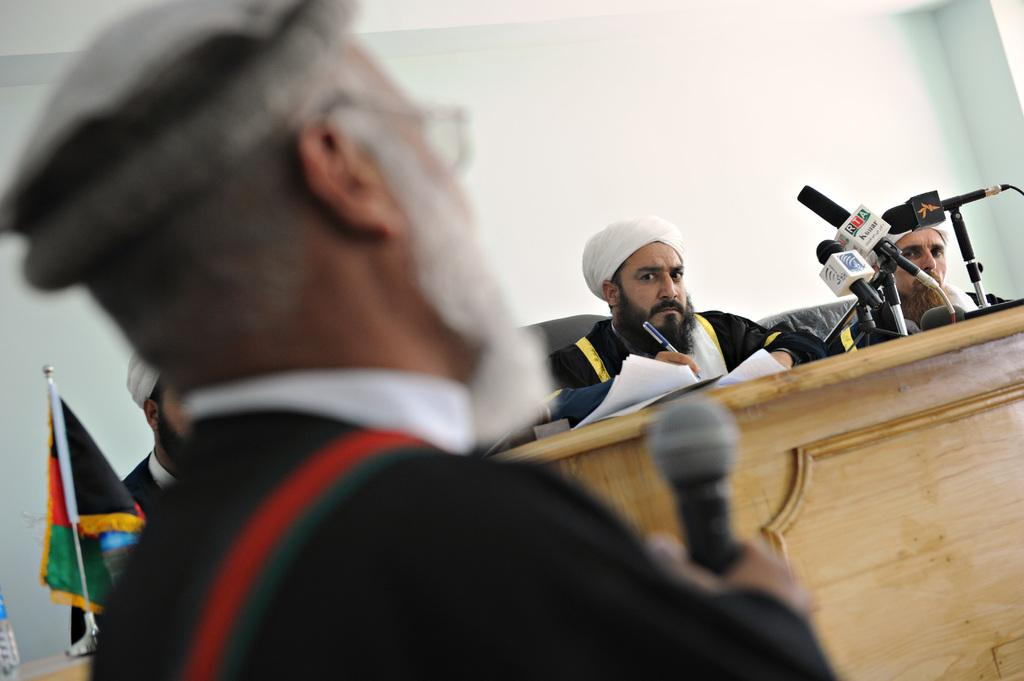Hat: (0, 0, 366, 293), (562, 205, 687, 321)
